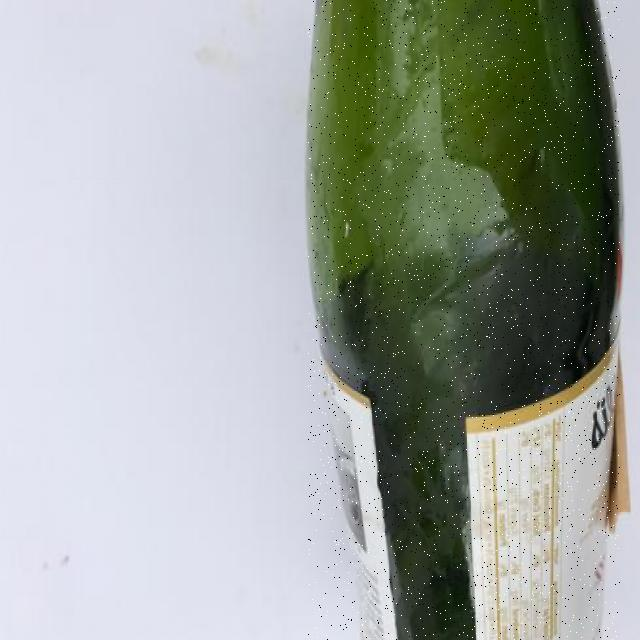glass: (309, 0, 620, 640)
